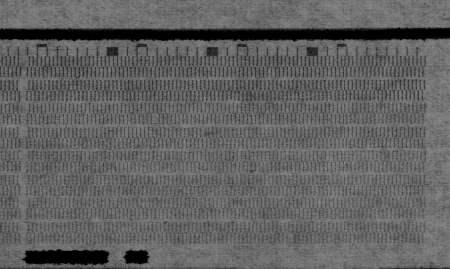Broken hole: (149, 114, 163, 127)
